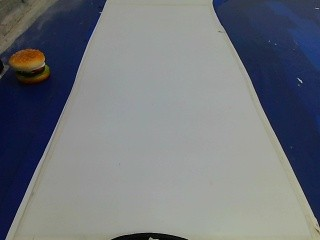burger: (7, 40, 56, 93)
